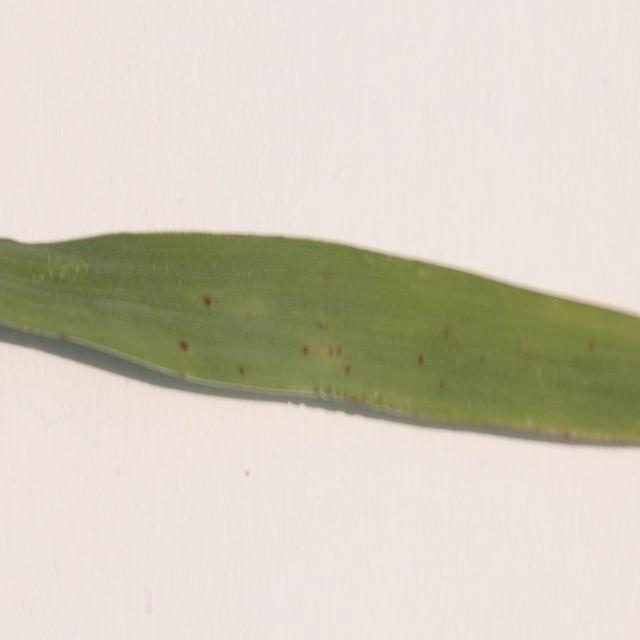Leafsmut: (543, 424, 567, 438), (322, 383, 341, 399), (46, 265, 60, 280), (416, 267, 430, 279), (180, 371, 194, 381), (320, 272, 332, 283), (525, 416, 536, 428), (347, 394, 360, 404), (372, 389, 382, 402), (73, 263, 83, 276), (178, 341, 189, 352), (519, 349, 530, 360), (442, 325, 451, 337), (202, 296, 212, 306), (561, 430, 571, 440), (175, 370, 186, 379), (229, 233, 243, 240), (316, 321, 326, 330), (312, 383, 321, 393), (588, 341, 596, 352), (416, 354, 424, 364), (237, 367, 245, 377), (302, 344, 309, 354), (438, 380, 445, 390), (344, 365, 351, 375), (328, 346, 335, 356), (57, 331, 67, 338), (479, 353, 486, 363), (87, 291, 94, 301), (336, 345, 343, 354)
